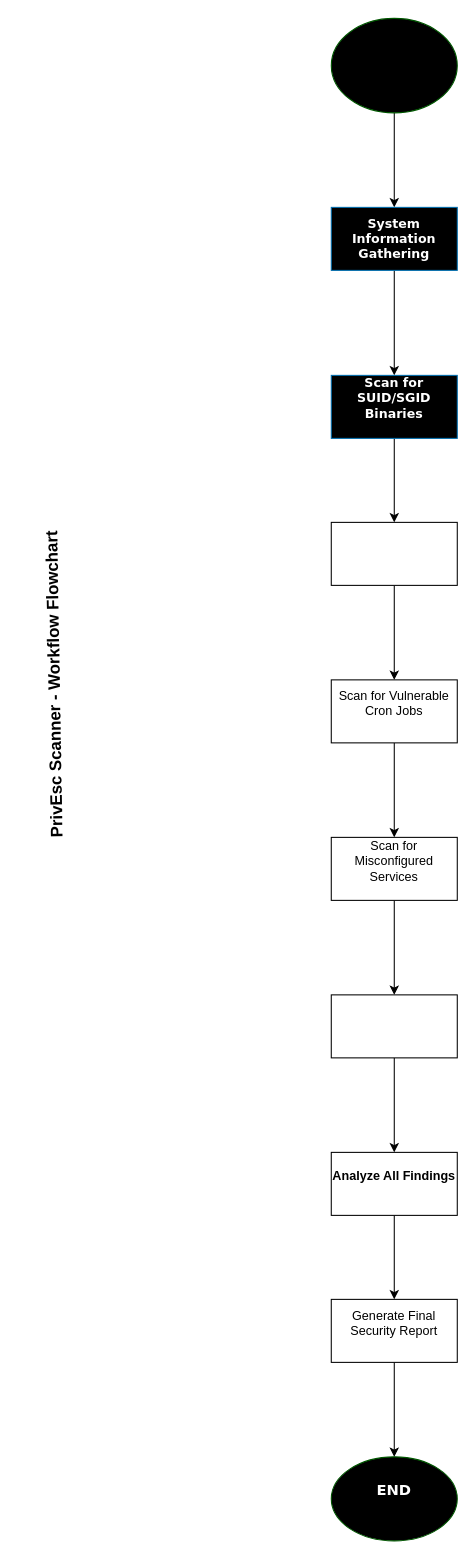
This 476x1564 diagram has some shape labels left out. The shapes that lost their labels are listed below. From the top down, each one's centre as x and y in pixels, then its label:
At point 393,65: "START".
At point 393,553: "Scan for Weak Permissions".
At point 393,1026: "Scan for Kernel Exploit Possibilities".
